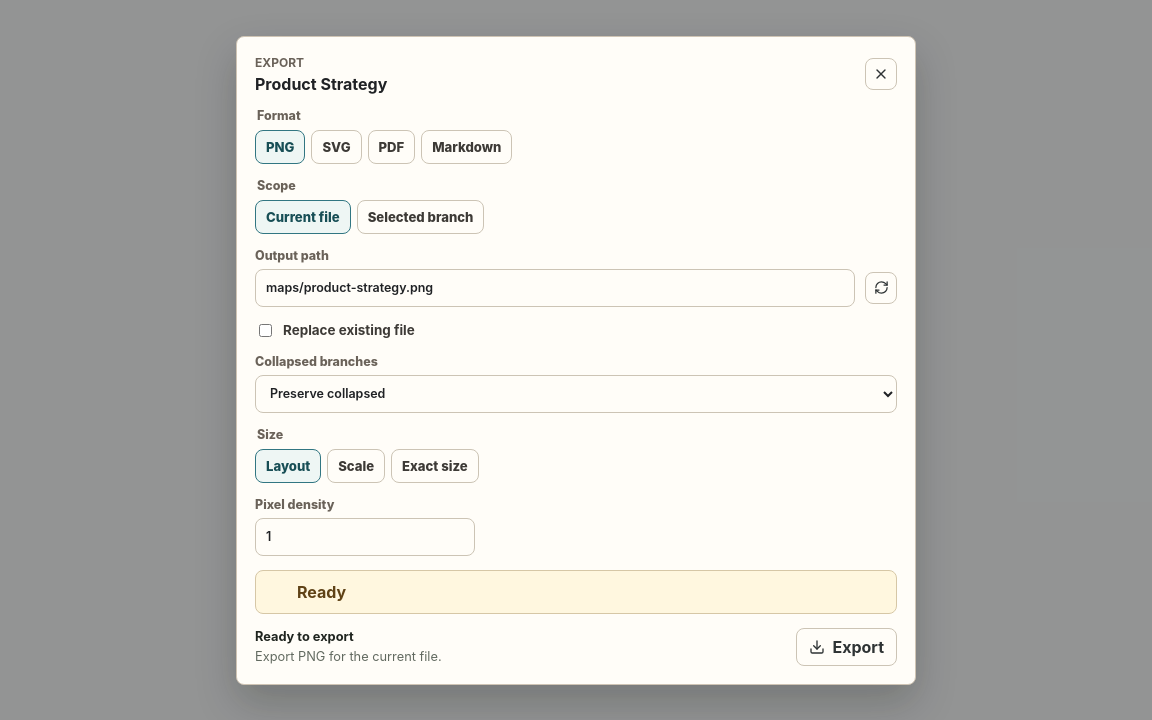
ExportDialog › submits png current_file exports through the Tauri command boundary
Click the button "Export" at [847, 646], box [796, 628, 897, 666]
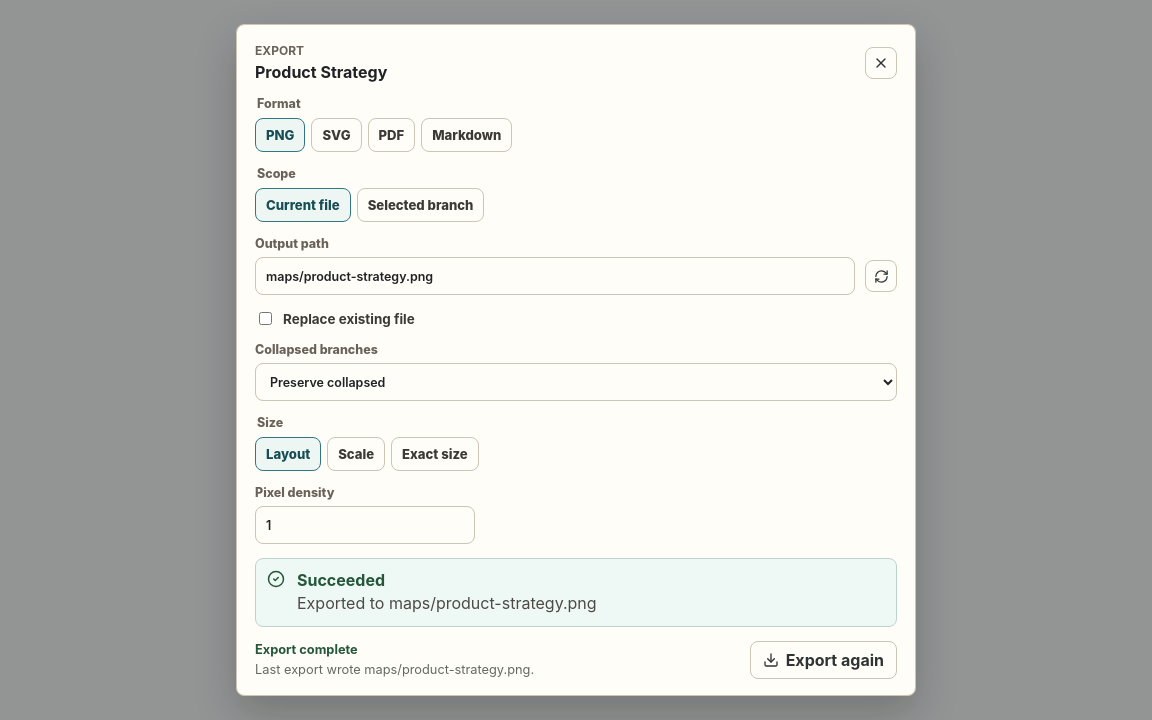
Now the text "Succeeded" is shown, box [297, 570, 385, 590]
